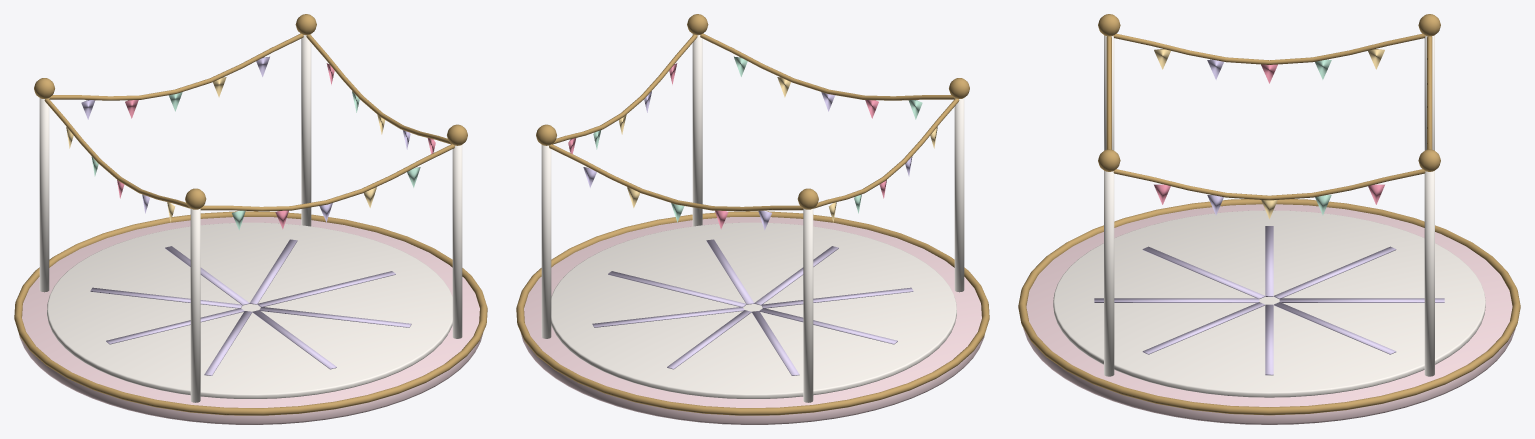
The model's file is plaza_stage.glb.
3 views of the same model, side by side, from view 1: azimuth 30°, elevation 25°; view 2: azimuth 150°, elevation 25°; view 3: azimuth 270°, elevation 25° (orthographic). The views are drawn at different scales.
Visible parts, largest first — view 1: Cone; view 2: Cone; view 3: Cone.
Part boxes in pixels (x1,y1,x2,y2): Cone: (14, 14, 487, 424); Cone: (516, 14, 989, 424); Cone: (1018, 14, 1520, 424).
Size of the model in its own units: 4.88 by 2.56 by 4.88.
